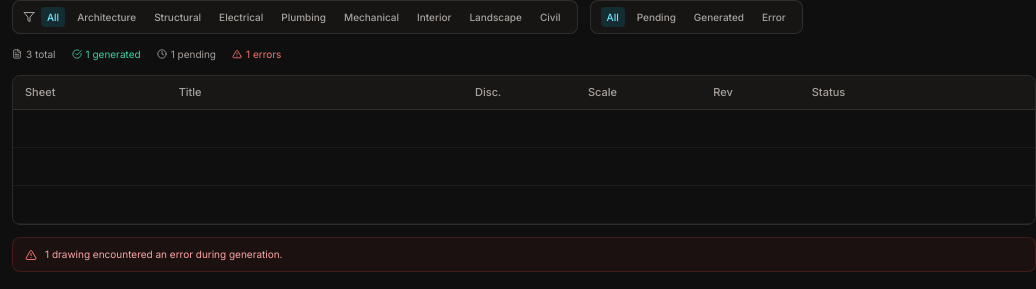
Test case: DrawingRegisterPanel › filters by discipline
This screenshot has width=1036, height=289.
Click the button with test id "disc-filter-E": (241, 17) [213, 7, 269, 27]
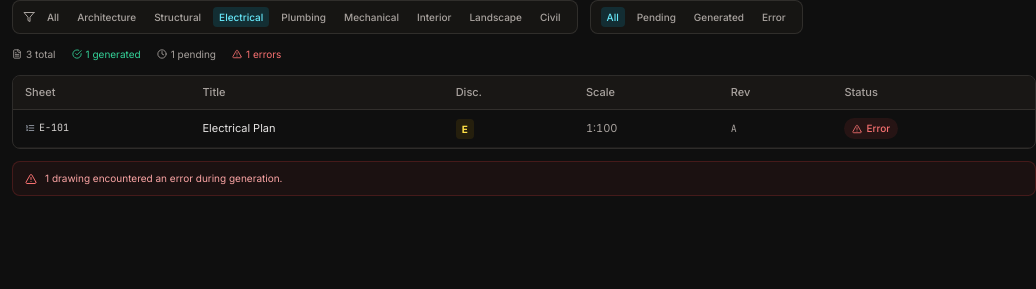
expect the text "E-101" is shown: met, box [25, 120, 69, 136]
